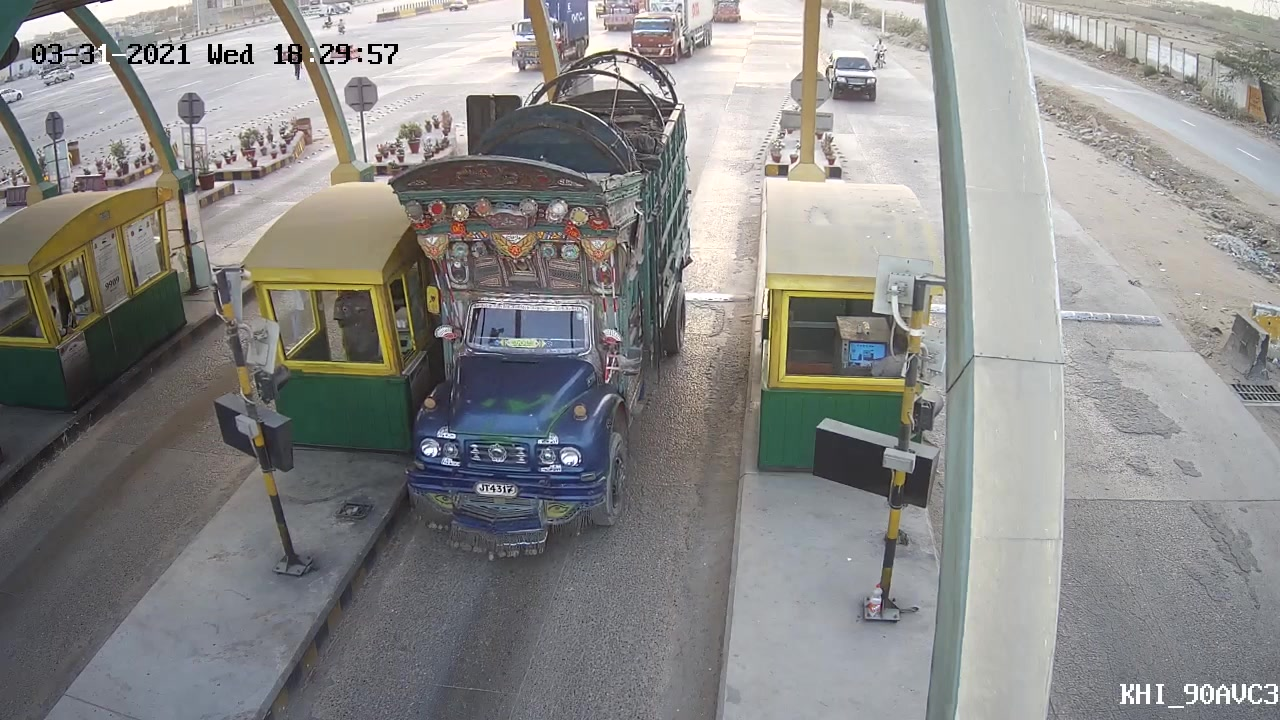F5: (403, 45, 695, 552)
